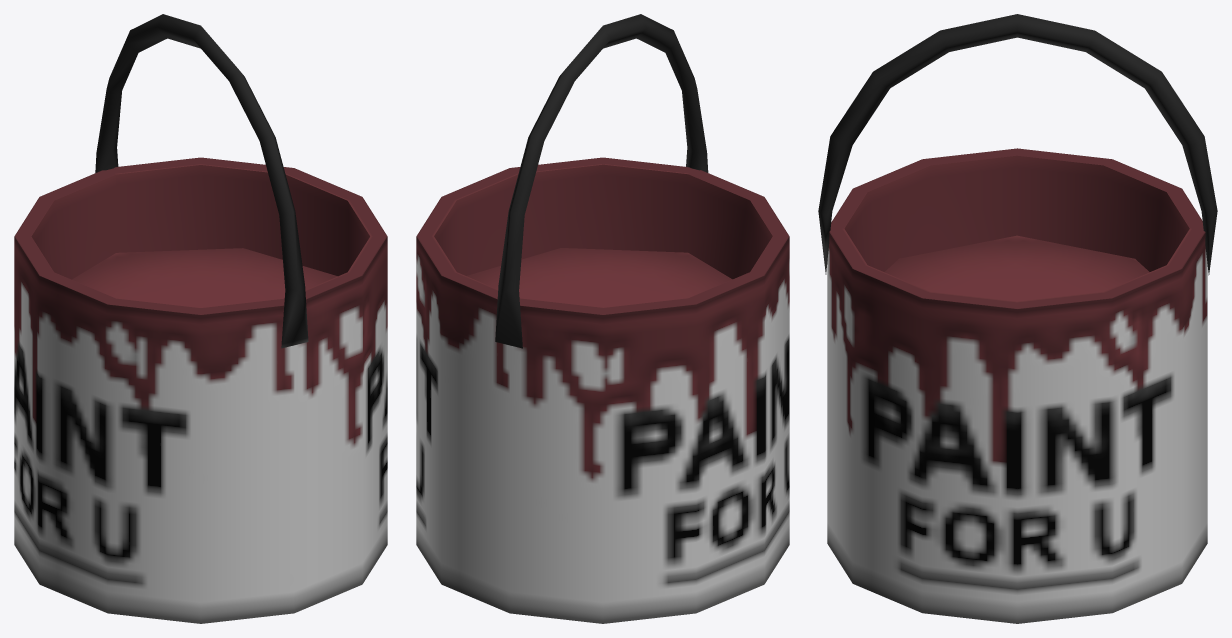
File: PaintTinHands.FBX
3 renders of one model, left to right at view 1: azimuth 30°, elevation 25°; view 2: azimuth 150°, elevation 25°; view 3: azimuth 270°, elevation 25°, orthographic.
Parts seen in each view (by area): view 1: PaintTin_Full; view 2: PaintTin_Full; view 3: PaintTin_Full.
Boxes of the visible parts, box(x1,y1,x2,y2) form: PaintTin_Full: box(14, 14, 387, 623); PaintTin_Full: box(416, 14, 789, 623); PaintTin_Full: box(818, 14, 1217, 623).
Size of the model in its own units: 0.2905 by 0.305 by 0.4464.
